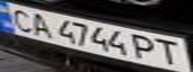4: (51, 16, 75, 43), (87, 24, 109, 52), (109, 28, 130, 57)
7: (69, 20, 90, 47)
A: (27, 10, 54, 38)
C: (3, 6, 36, 33)
P: (130, 33, 160, 62)
T: (154, 36, 187, 68)
